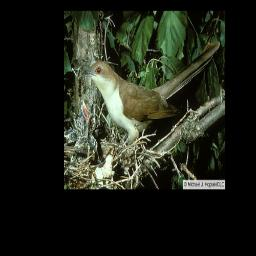Cuckoo: (81, 40, 220, 143)
